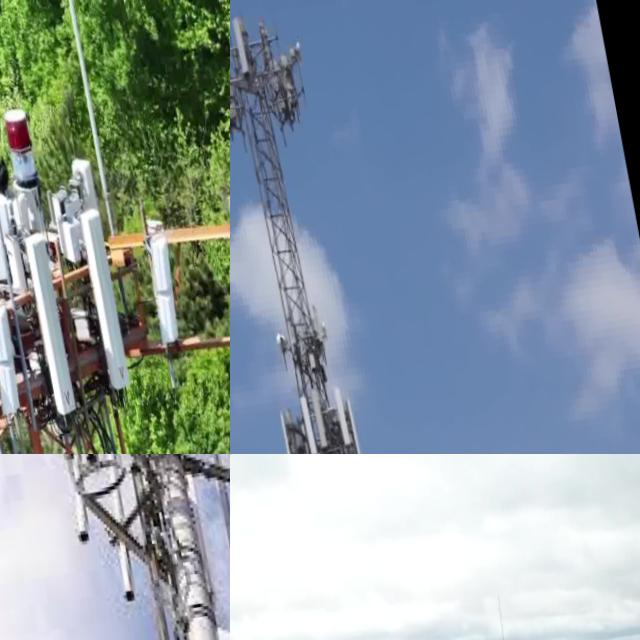GSM Antenna: (71, 196, 136, 400), (19, 223, 83, 420), (0, 296, 27, 420), (329, 382, 355, 450), (295, 390, 322, 454), (305, 383, 332, 447), (230, 12, 255, 76)
Microwave Antenna: (285, 35, 306, 64), (272, 328, 288, 350), (317, 318, 329, 339)
